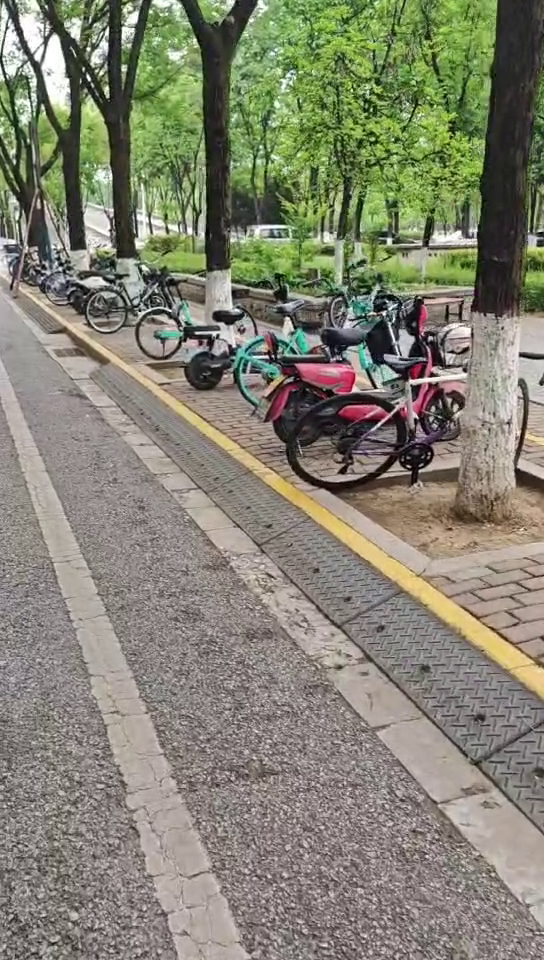others: (303, 347, 534, 486), (86, 264, 168, 330)
shared_bike_qingcong: (229, 288, 393, 411), (136, 263, 253, 361)
